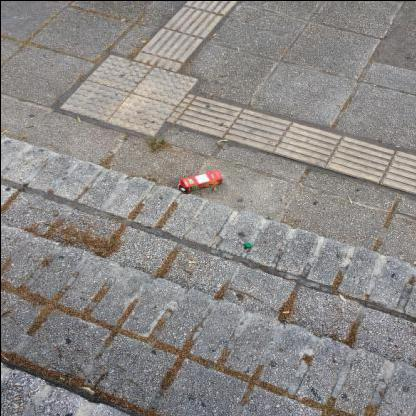Bottle: (244, 242, 252, 247)
Carton: (178, 169, 222, 191)
Cigarette: (187, 260, 196, 263), (281, 310, 288, 312), (212, 32, 216, 35)
